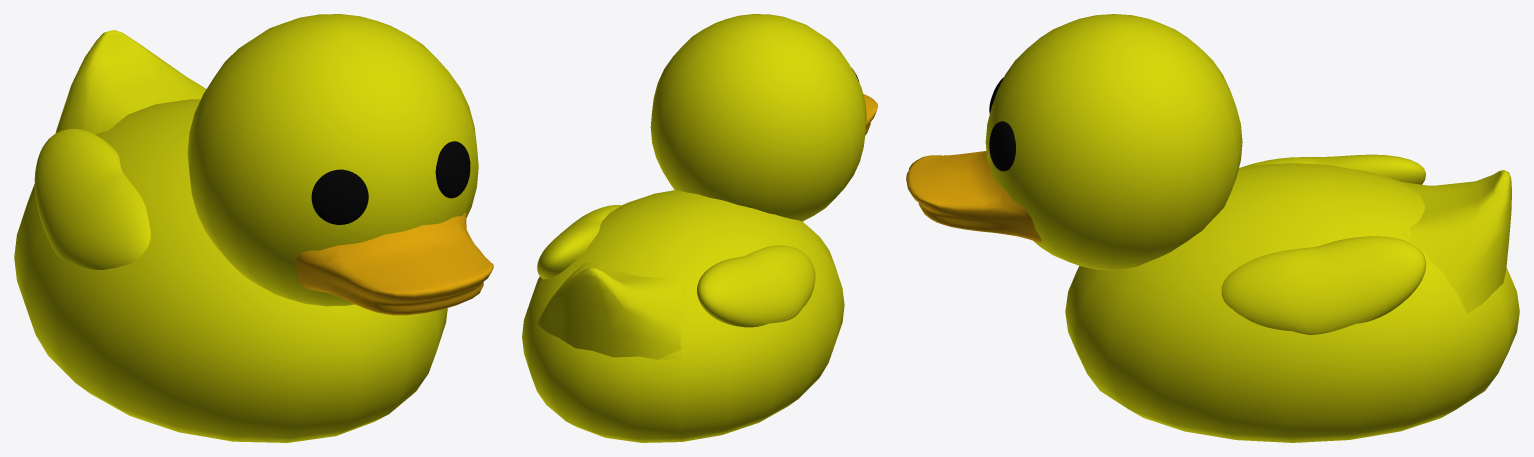
File: DUCK.fbx
The picture shows the model from 3 angles, left to right: view 1: azimuth 30°, elevation 25°; view 2: azimuth 150°, elevation 25°; view 3: azimuth 270°, elevation 25°; orthographic projection. The views are drawn at different scales.
Parts seen in each view (by area): view 1: pSphere3, pSphere1, pSphere2, pSphere5, pSphere4, pSphere6; view 2: pSphere3, pSphere1, pSphere4, pSphere5; view 3: pSphere3, pSphere1, pSphere5, pSphere4, pSphere2, pSphere6.
Part boxes in pixels (bbox=[...]): pSphere3: bbox=[14, 99, 447, 442]; pSphere1: bbox=[187, 14, 478, 306]; pSphere2: bbox=[295, 212, 493, 315]; pSphere5: bbox=[34, 128, 150, 269]; pSphere4: bbox=[55, 30, 206, 134]; pSphere6: bbox=[311, 141, 470, 224]; pSphere3: bbox=[522, 190, 844, 442]; pSphere1: bbox=[650, 14, 866, 221]; pSphere4: bbox=[537, 255, 682, 359]; pSphere5: bbox=[537, 205, 815, 327]; pSphere3: bbox=[1065, 163, 1519, 442]; pSphere1: bbox=[985, 14, 1242, 270]; pSphere5: bbox=[1221, 154, 1425, 334]; pSphere4: bbox=[1401, 170, 1511, 313]; pSphere2: bbox=[906, 151, 1041, 242]; pSphere6: bbox=[989, 77, 1015, 171].
Size of the model in its own units: 2.75 by 3.06 by 4.78.
